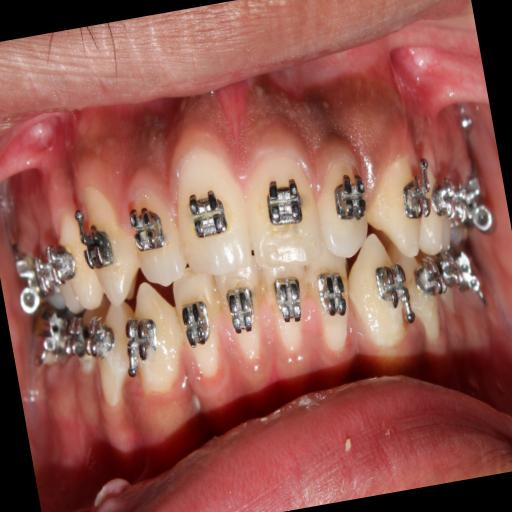correct_brace: (114, 303, 168, 392), (366, 250, 420, 334)
incorrect_brace: (116, 158, 192, 292), (308, 138, 380, 264)
